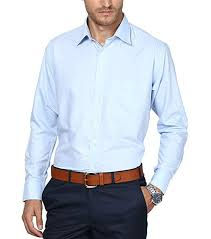F_belt: (47, 155, 152, 191)
F_dress pants: (41, 164, 149, 239)
F_shirt: (17, 16, 187, 207)
